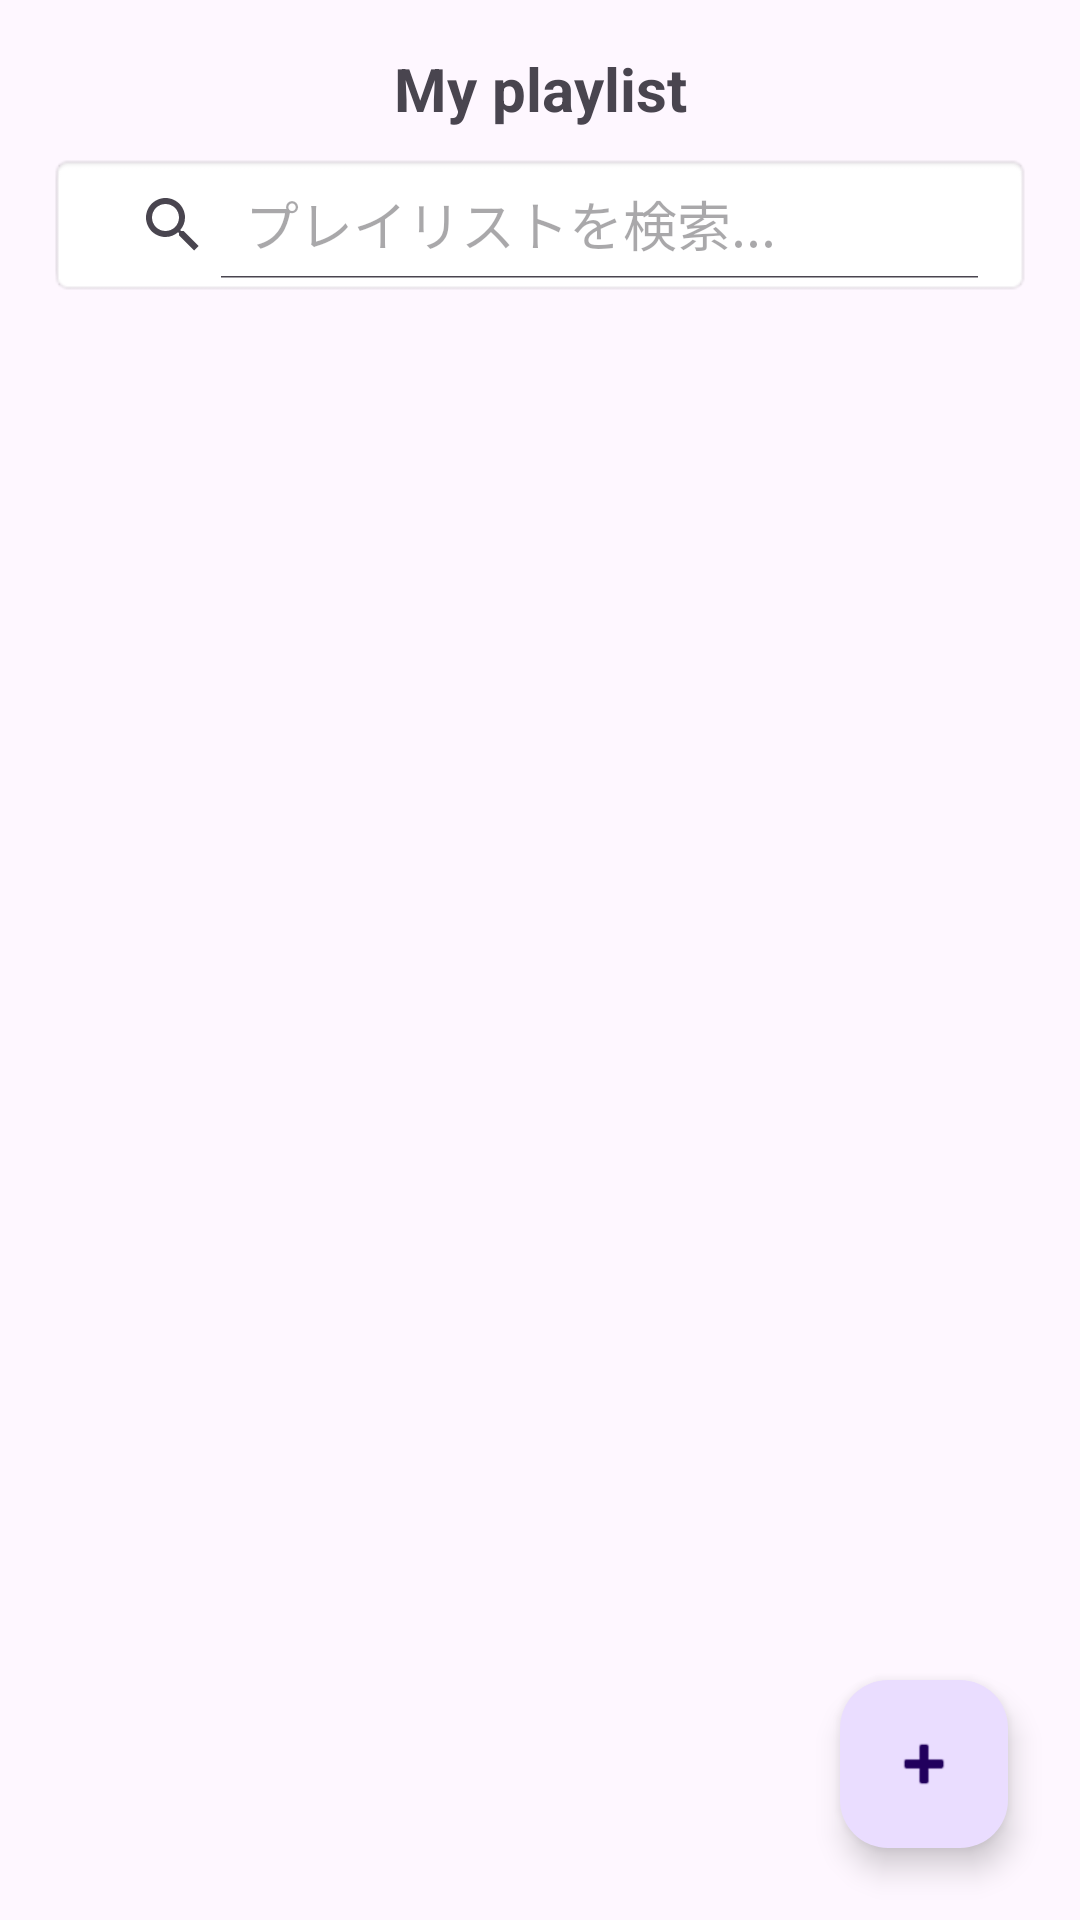

Named icons in this screenshot (1080x1920) and their centers, (x,y):
新しいプレイリストを作成: (924,1764)
